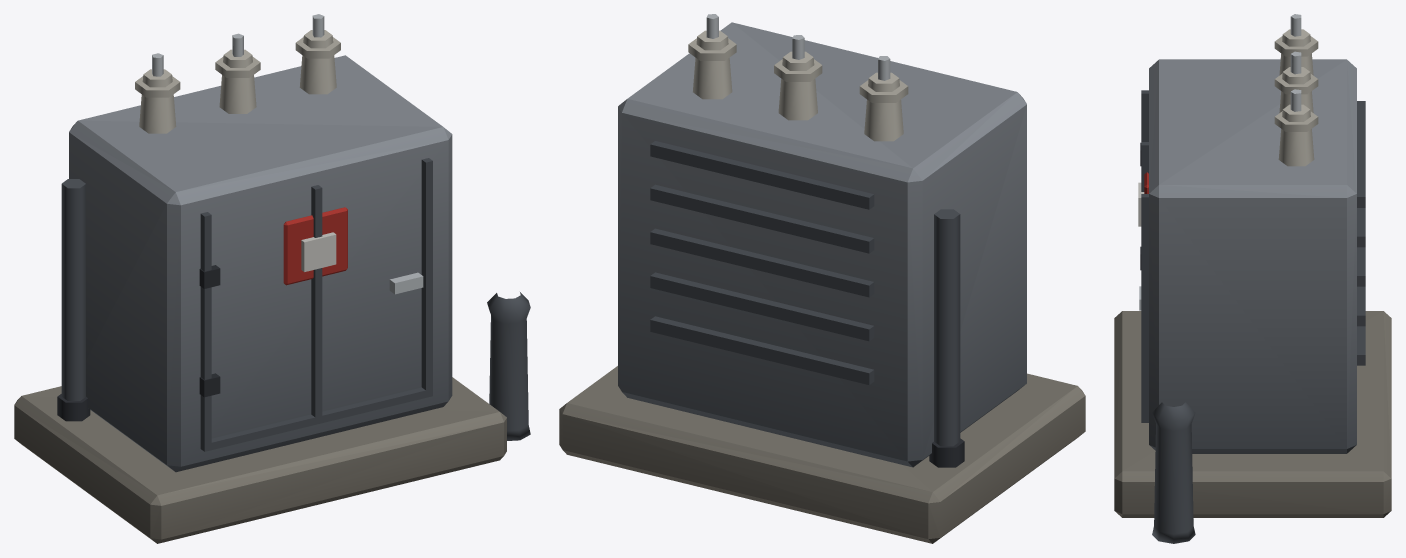
The model's file is transformer_kiosk_01.glb.
3 renders of one model, left to right at view 1: azimuth 30°, elevation 25°; view 2: azimuth 150°, elevation 25°; view 3: azimuth 270°, elevation 25°, orthographic. The views are drawn at different scales.
Parts seen in each view (by area): view 1: transformer_kiosk_01; view 2: transformer_kiosk_01; view 3: transformer_kiosk_01.
Boxes of the visible parts, x1,y1,x2,y2 form: transformer_kiosk_01: (14, 14, 530, 543); transformer_kiosk_01: (559, 14, 1085, 543); transformer_kiosk_01: (1114, 14, 1391, 543).
Size of the model in its own units: 2.27 by 2.14 by 1.4.
